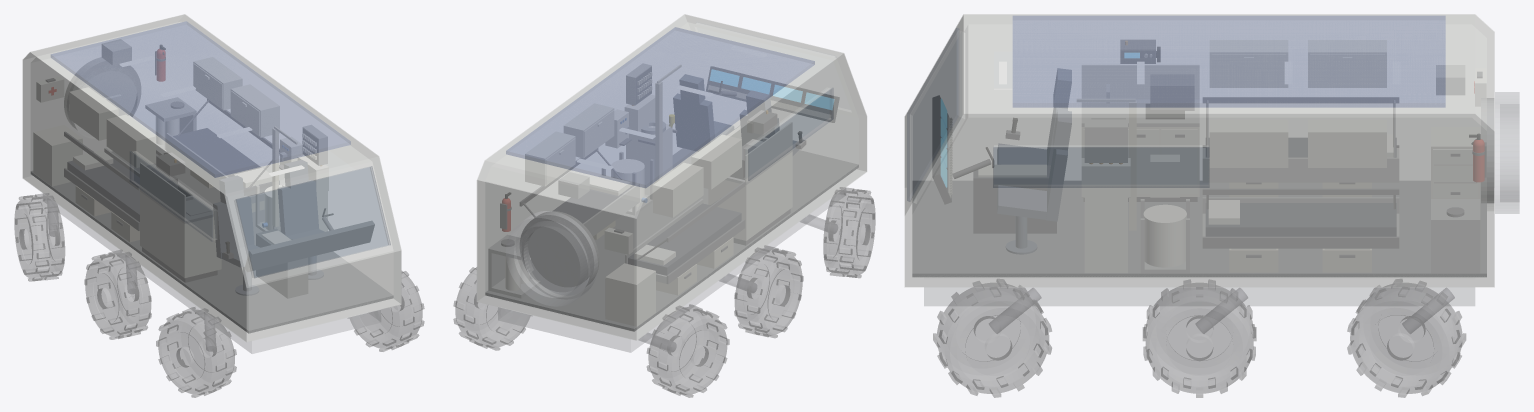
File: rover03_pressurised_rover_steer_left_combined.glb
3 views of the same model, side by side, from view 1: azimuth 30°, elevation 25°; view 2: azimuth 150°, elevation 25°; view 3: azimuth 270°, elevation 25° (orthographic). The views are drawn at different scales.
Parts seen in each view (by area): view 1: ext_cabin, pressure_vessel, ext_roof_solar, ext_windows, deck_floor, stowage_lockers, ext_wheel_4, ext_wheel_5, eq37_1_cabinet, ext_wheel_6, seat_2, ext_chassis (+29 smaller); view 2: pressure_vessel, ext_cabin, ext_roof_solar, deck_floor, stowage_lockers, ext_rear_hatch, ext_wheel_6, ext_wheel_5, ext_wheel_4, eq37_1_cabinet, ext_chassis, ext_wheel_3 (+33 smaller); view 3: pressure_vessel, ext_cabin, ext_roof_solar, deck_floor, stowage_lockers, ext_windows, ext_wheel_2, ext_wheel_3, ext_wheel_1, ext_chassis, eq43_1_mattress, seat_1 (+31 smaller).
Boxes of the visible parts, x1,y1,x2,y2 form: ext_cabin: [22, 14, 401, 342]; pressure_vessel: [23, 14, 400, 341]; ext_roof_solar: [51, 21, 350, 177]; ext_windows: [130, 151, 390, 277]; deck_floor: [31, 151, 393, 333]; stowage_lockers: [69, 57, 279, 167]; ext_wheel_4: [156, 307, 236, 397]; ext_wheel_5: [84, 250, 151, 339]; eq37_1_cabinet: [140, 192, 221, 277]; ext_wheel_6: [14, 193, 64, 281]; seat_2: [213, 176, 259, 295]; ext_chassis: [43, 194, 380, 353]; pressure_vessel: [477, 15, 866, 339]; ext_cabin: [477, 14, 866, 340]; ext_roof_solar: [506, 27, 814, 187]; deck_floor: [485, 148, 858, 331]; stowage_lockers: [525, 103, 741, 217]; ext_rear_hatch: [506, 211, 597, 306]; ext_wheel_6: [647, 304, 729, 397]; ext_wheel_5: [734, 245, 803, 337]; ext_wheel_4: [823, 187, 875, 277]; eq37_1_cabinet: [708, 152, 792, 240]; ext_chassis: [498, 188, 845, 352]; ext_wheel_3: [453, 267, 531, 350]; pressure_vessel: [905, 15, 1494, 286]; ext_cabin: [904, 14, 1494, 287]; ext_roof_solar: [1013, 16, 1445, 107]; deck_floor: [912, 181, 1486, 277]; stowage_lockers: [1210, 40, 1386, 167]; ext_windows: [907, 28, 1209, 201]; ext_wheel_2: [1143, 279, 1256, 397]; ext_wheel_3: [1347, 279, 1465, 397]; ext_wheel_1: [933, 279, 1051, 397]; ext_chassis: [924, 287, 1474, 305]; eq43_1_mattress: [1206, 203, 1396, 236]; seat_1: [997, 110, 1071, 254].
Size of the model in its own units: 3.58 by 3.03 by 6.25.
